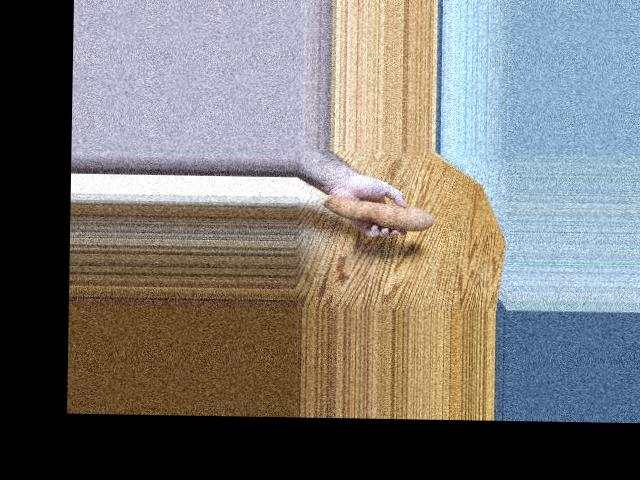sweet_potato: (328, 194, 434, 239)
